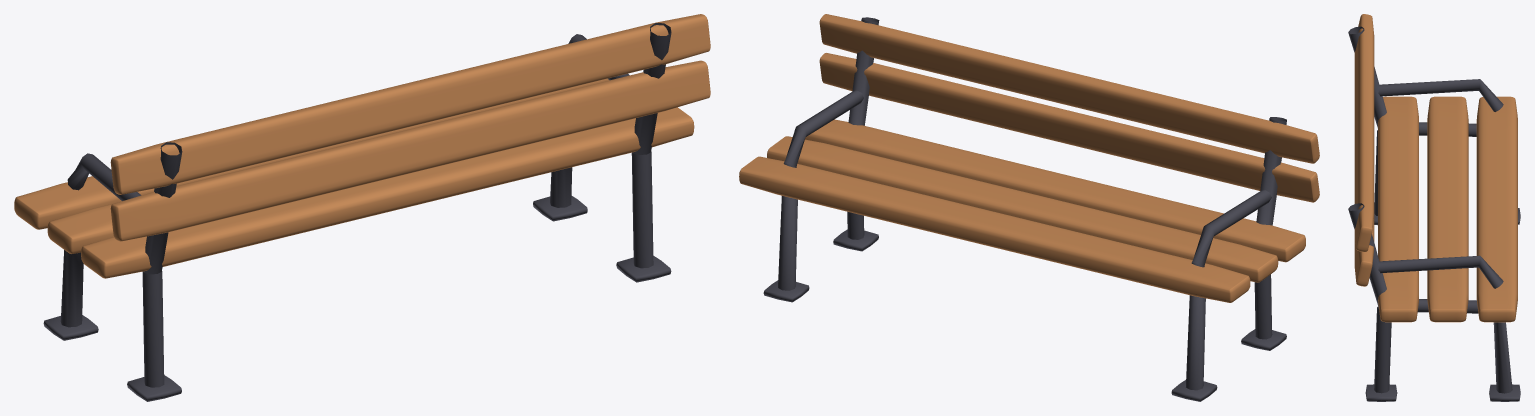
The model's file is Bench.obj.
3 views of the same model, side by side, from view 1: azimuth 30°, elevation 25°; view 2: azimuth 150°, elevation 25°; view 3: azimuth 270°, elevation 25° (orthographic). The views are drawn at different scales.
Visible parts, largest first — view 1: Bench, Legs; view 2: Bench, Legs; view 3: Bench, Legs.
Part boxes in pixels (box(x1,y1,x2,y2)): Bench: box(14, 14, 710, 278); Legs: box(43, 23, 671, 401); Bench: box(739, 14, 1319, 302); Legs: box(763, 17, 1286, 401); Bench: box(1354, 14, 1517, 322); Legs: box(1348, 26, 1520, 401).
Size of the model in its own units: 8 by 3.34 by 2.73.
